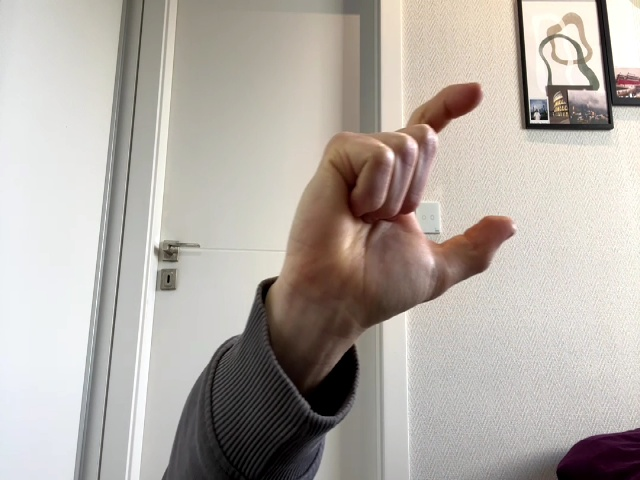C: (282, 83, 517, 328)
